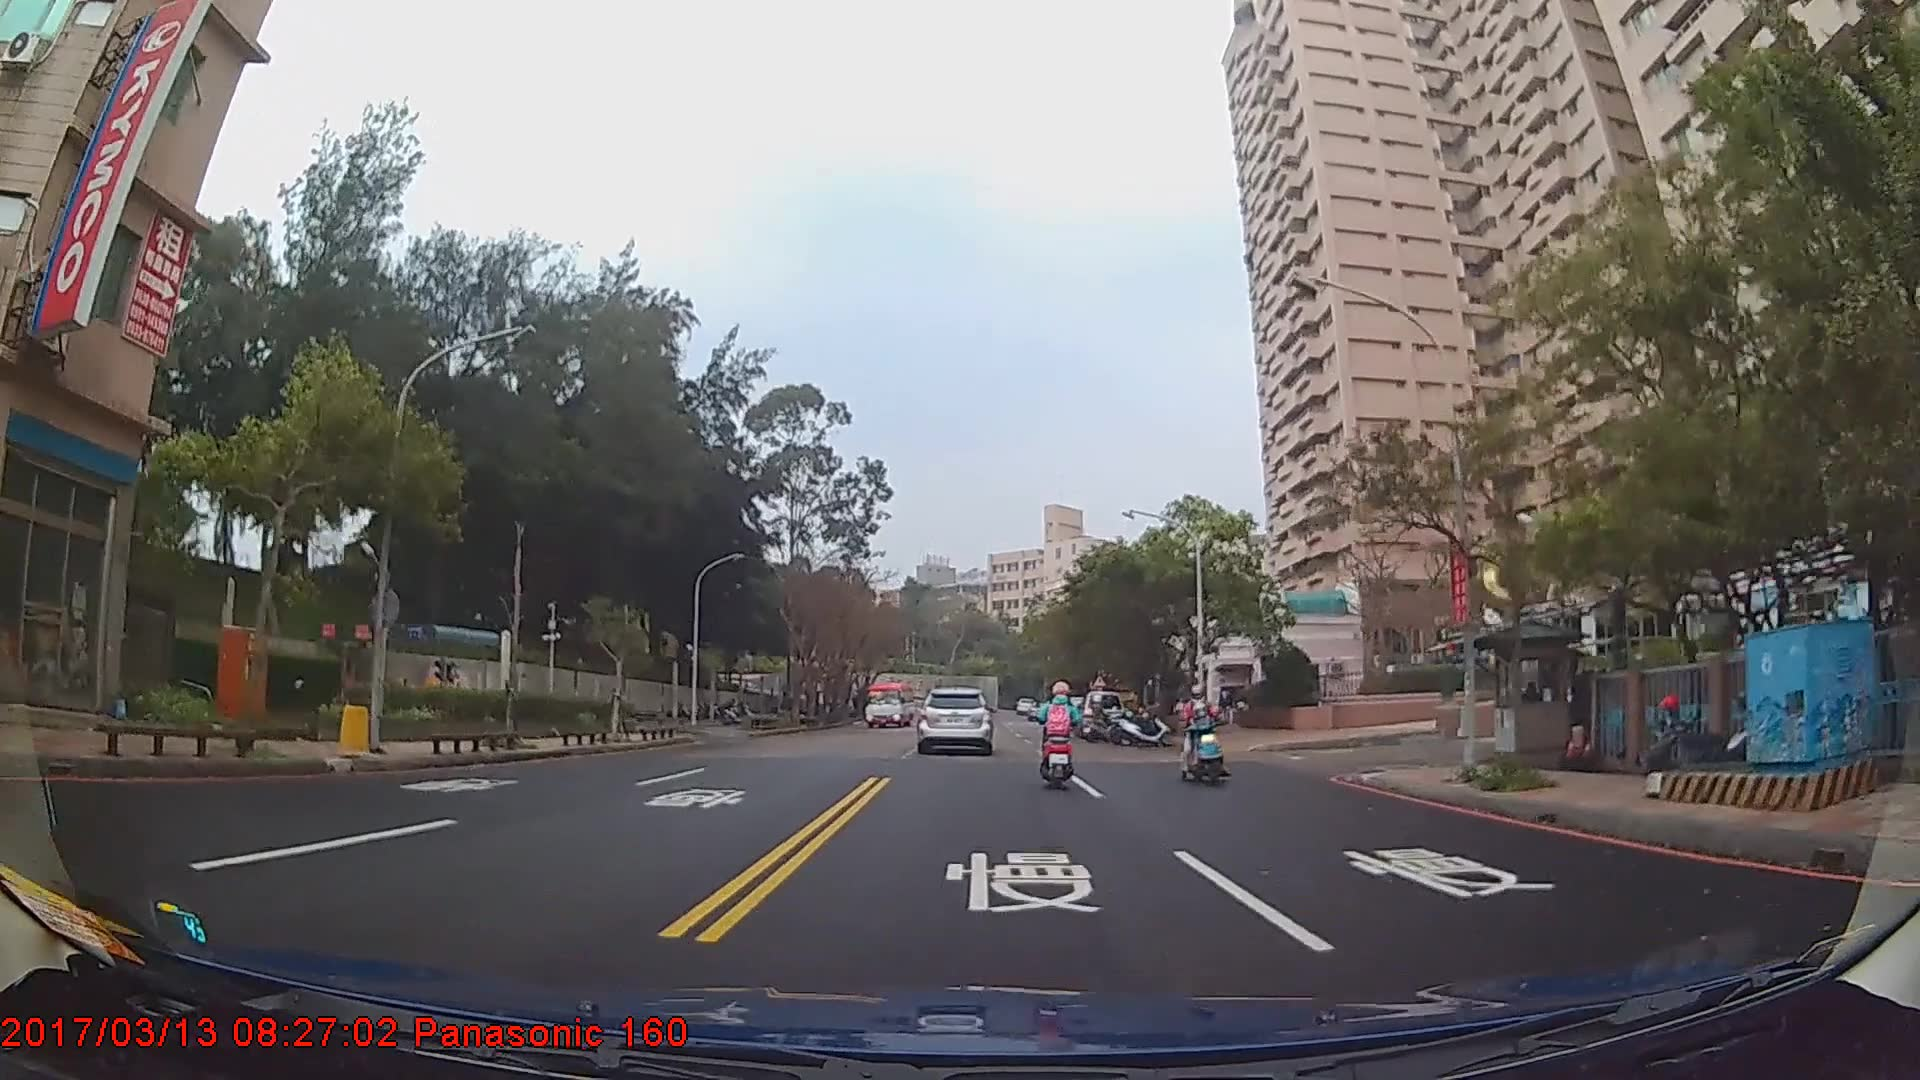rider: (1036, 673, 1079, 787), (1177, 682, 1225, 779), (1082, 692, 1116, 742)
vehicle: (914, 683, 991, 752), (864, 679, 916, 729), (1075, 689, 1123, 738)
